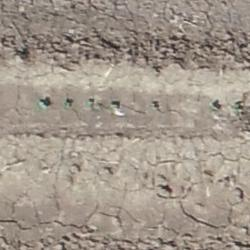cotton: (234, 105, 242, 111), (40, 101, 47, 107), (64, 101, 72, 106), (112, 103, 119, 108), (88, 101, 91, 107)
